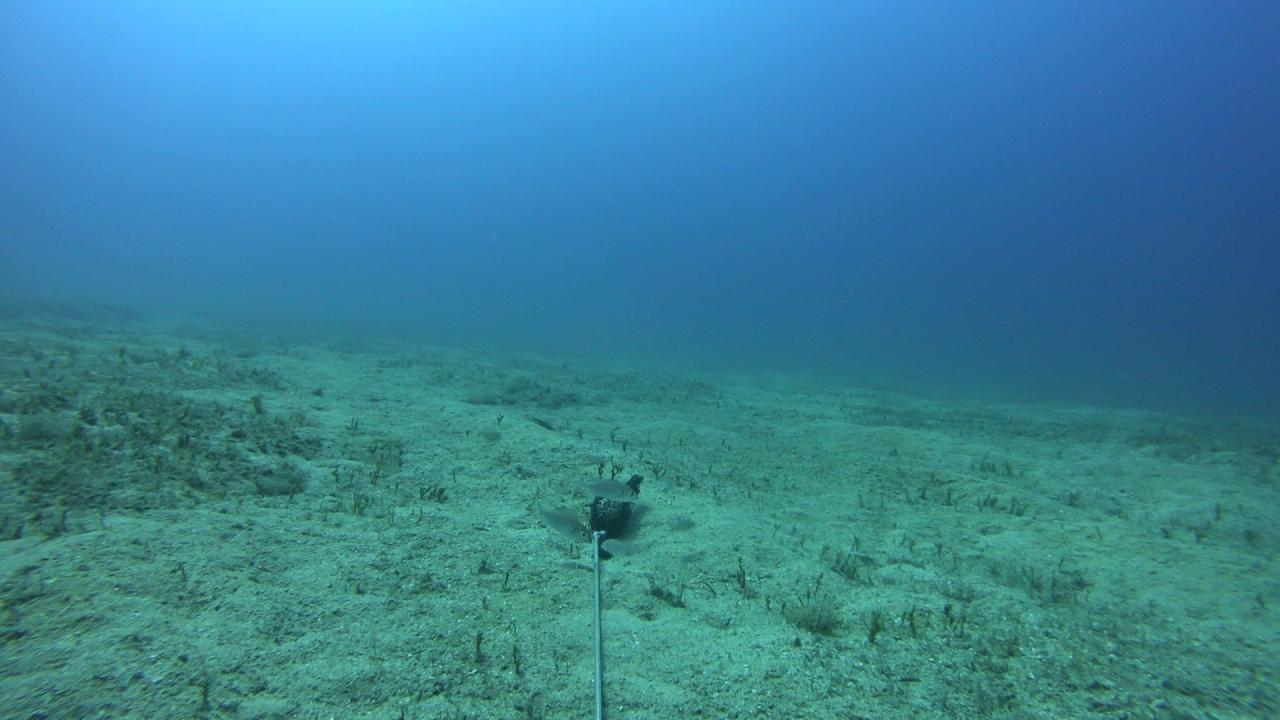pagellus: (522, 487, 592, 543), (579, 479, 636, 505), (599, 538, 639, 556), (669, 518, 695, 533)
